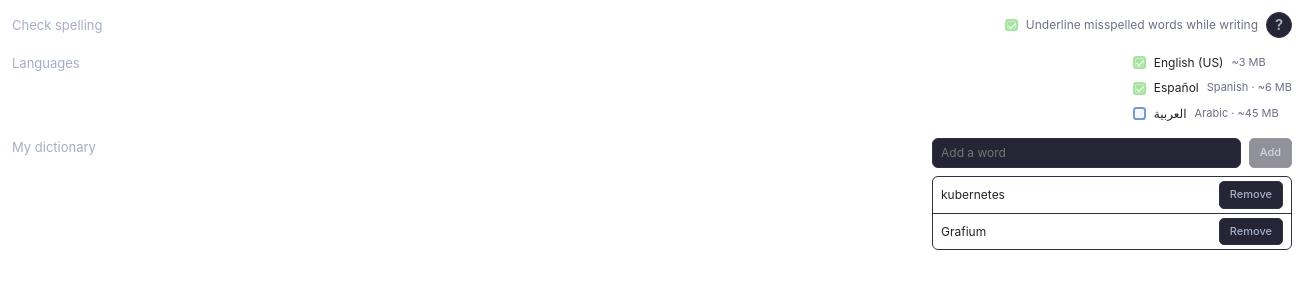
Test: my dictionary › keeps what was typed and says why a word was refused
Expected: the label "English (US) ~3 MB" is shown, [1133,55,1266,70]
Type "a b" into the field labelled "My dictionary" at (1086, 153), box [932,138,1241,168]
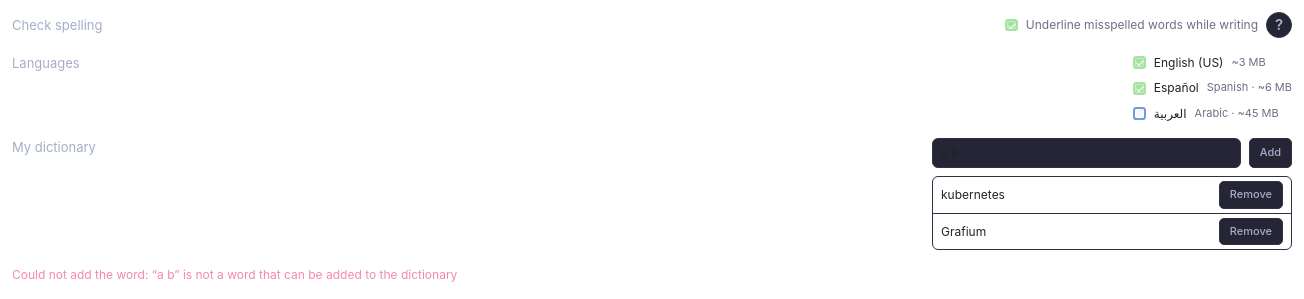
Expected: the message reads "Could not add the word: “a b” is not a word that can be added to the dictionary", [12,267,457,282]
